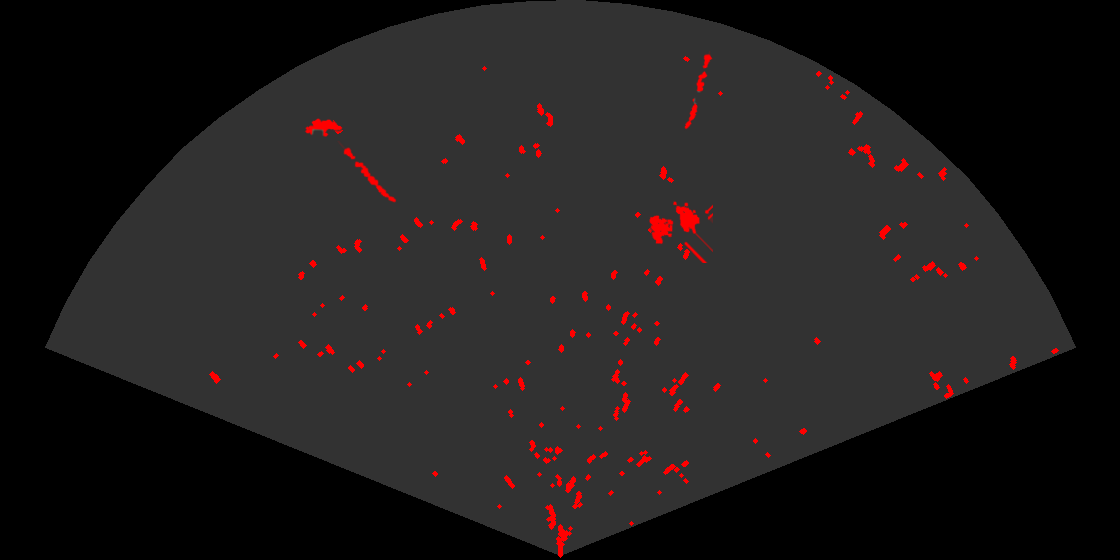AUV: (303, 117, 344, 138)
cage: (648, 200, 713, 263)
chain: (336, 141, 398, 204), (683, 51, 714, 131)
